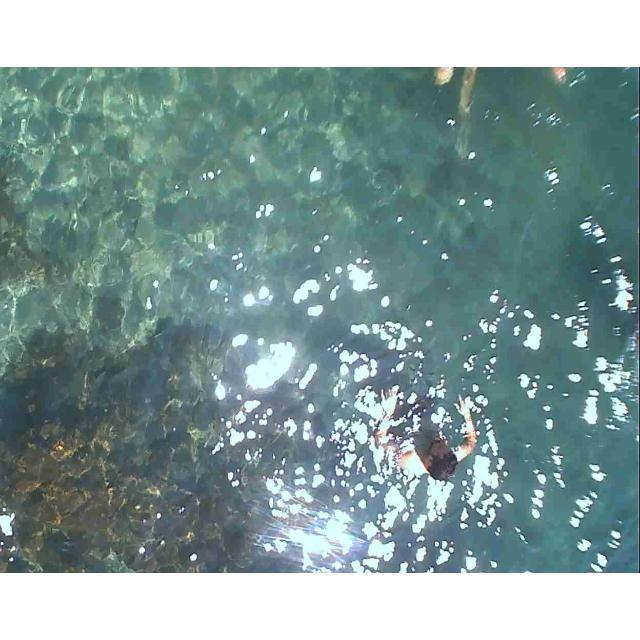human: (415, 67, 567, 172), (366, 371, 476, 506)
